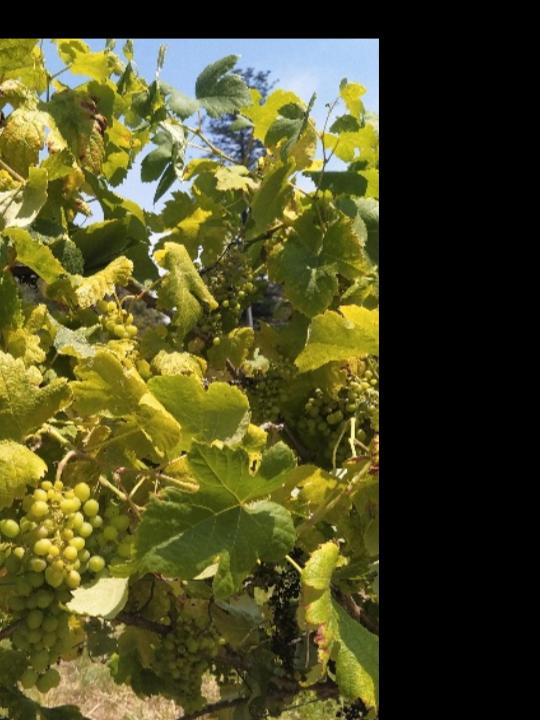grape: (0, 480, 134, 691)
